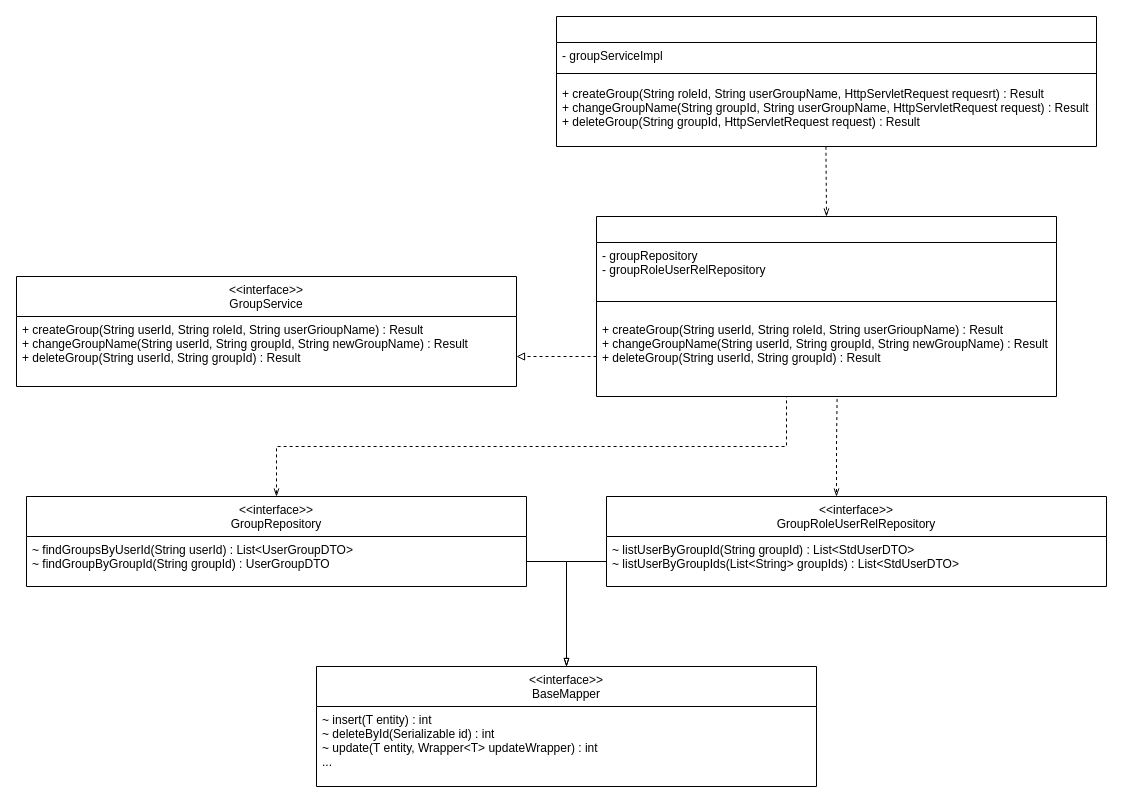
Image size: 1123x803. Some labels were removed from this diagram. The shapes that lost their labels are listed below. From the top down, each one's box as (x1, y1, x2, y2) in pixels, then its label:
(556, 16, 1096, 146): GroupController
(596, 216, 1056, 396): GroupServiceImpl
